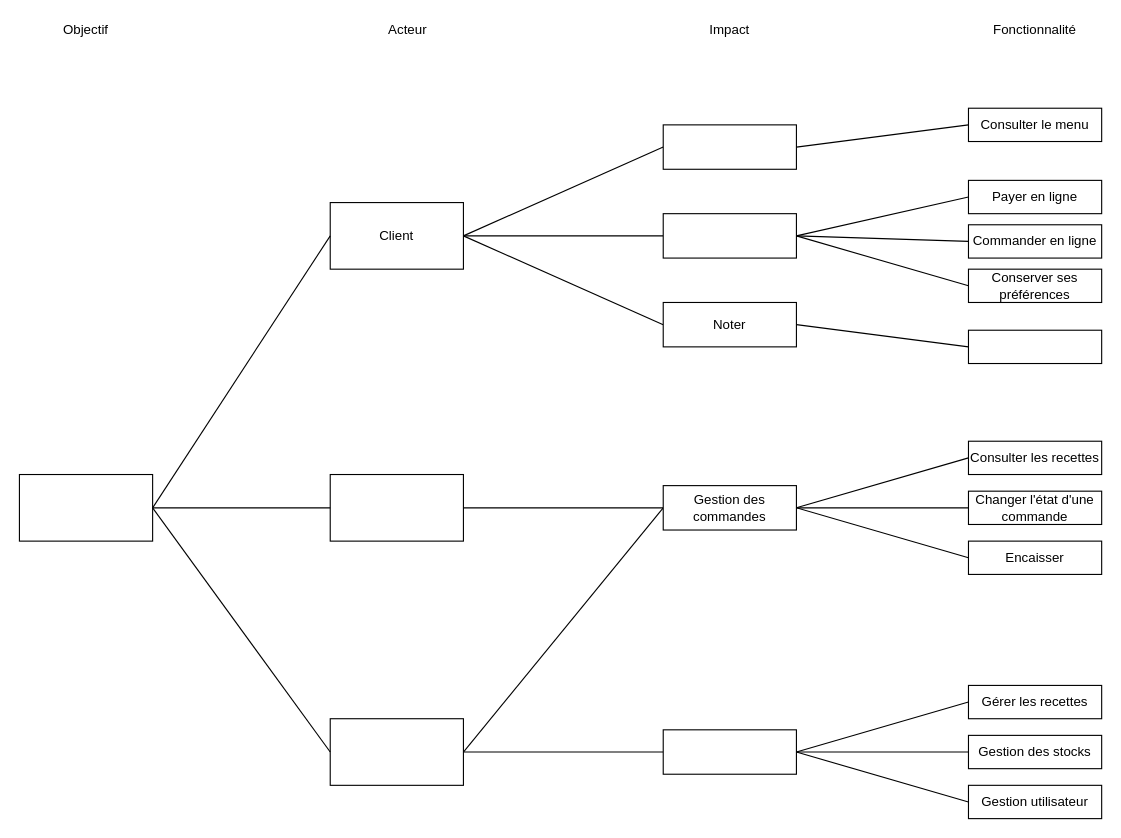
Image size: 1121x838. Some labels were removed from this diagram. Here are the shapes that lost their labels. From the top down, the centre of each, then its label:
At point 729,146: "Faire son choix".
At point 729,235: "Consommer".
At point 1034,346: "Laisser un avis".
At point 85,507: "Moderniser le système informatique".
At point 396,507: "Employé".
At point 396,751: "Direction".
At point 729,751: "Gestion de l'entreprise".
